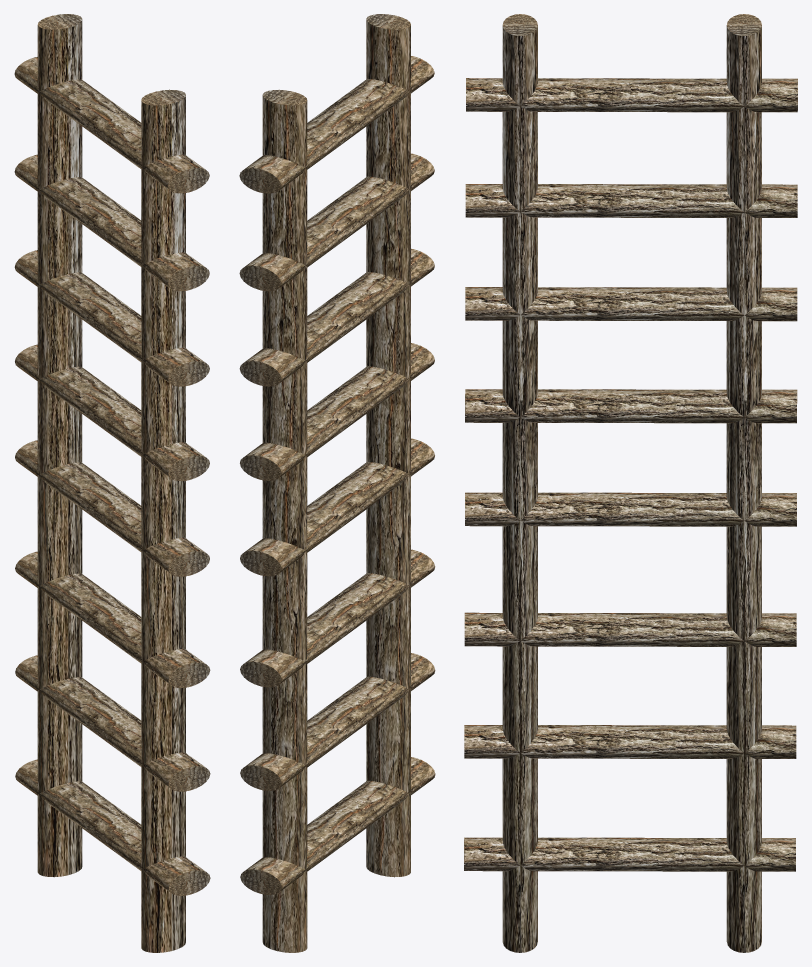
The model's file is ladder1.gltf.
3 renders of one model, left to right at view 1: azimuth 30°, elevation 25°; view 2: azimuth 150°, elevation 25°; view 3: azimuth 270°, elevation 25°, orthographic. The views are drawn at different scales.
Parts seen in each view (by area): view 1: Silindir (×10); view 2: Silindir (×10); view 3: Silindir (×10).
Boxes of the visible parts, x1,y1,x2,y2 form: Silindir (×10): [14, 14, 210, 952]; Silindir (×10): [239, 14, 435, 952]; Silindir (×10): [464, 14, 797, 952].
Bounding box in the file's own units: 0.105 × 2.03 × 0.6705.
Materials: 10 (10 with a texture image).
